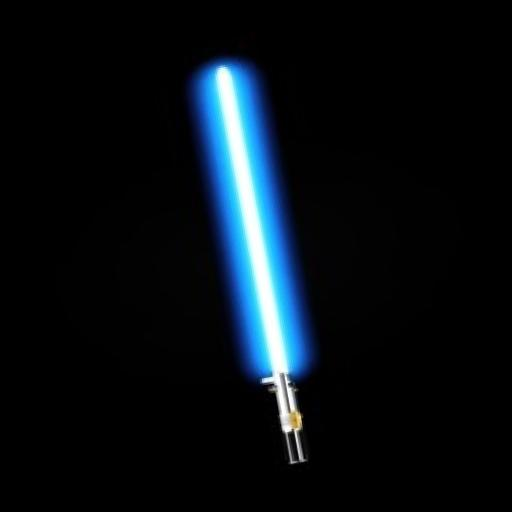lightsaber: (204, 60, 312, 469)
